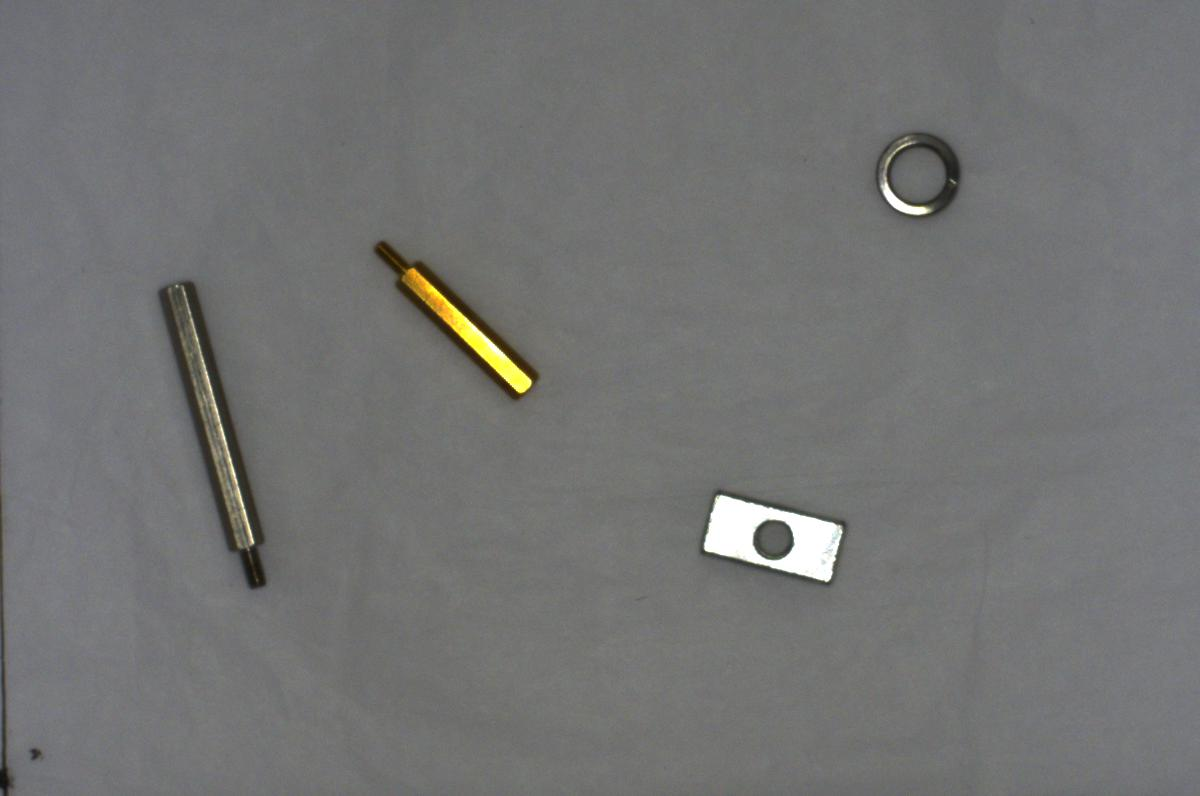Hexagon pillar: (365, 229, 550, 407)
Hexagonal steel column: (147, 268, 278, 601)
Rectangular nut: (691, 482, 850, 587)
Spring washer: (873, 126, 967, 226)
